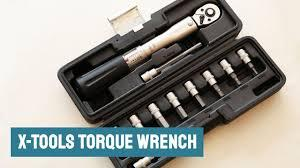wrench: (72, 1, 221, 96)
